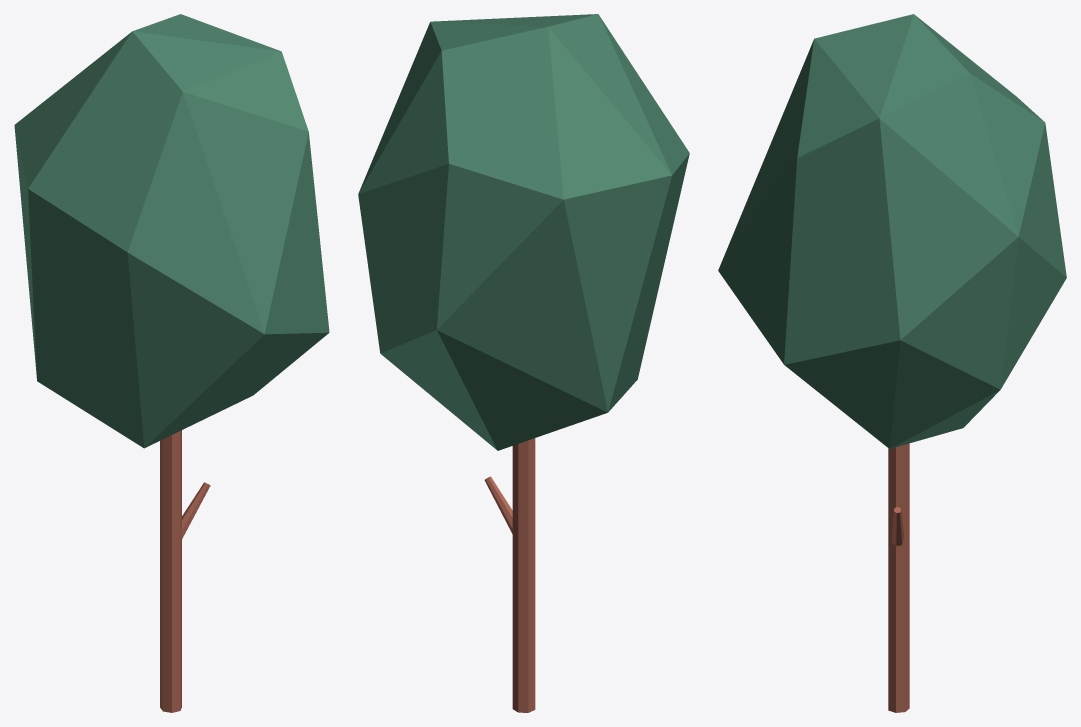
The model's file is tree_6.fbx.
3 renders of one model, left to right at view 1: azimuth 30°, elevation 25°; view 2: azimuth 150°, elevation 25°; view 3: azimuth 270°, elevation 25°, orthographic. The views are drawn at different scales.
Visible parts, largest first — view 1: Cylinder.042; view 2: Cylinder.042; view 3: Cylinder.042.
Part boxes in pixels (x1,y1,x2,y2): Cylinder.042: (14, 14, 329, 712); Cylinder.042: (358, 14, 689, 712); Cylinder.042: (718, 14, 1066, 712).
Bounding box in the file's own units: 198 × 442 × 206.
